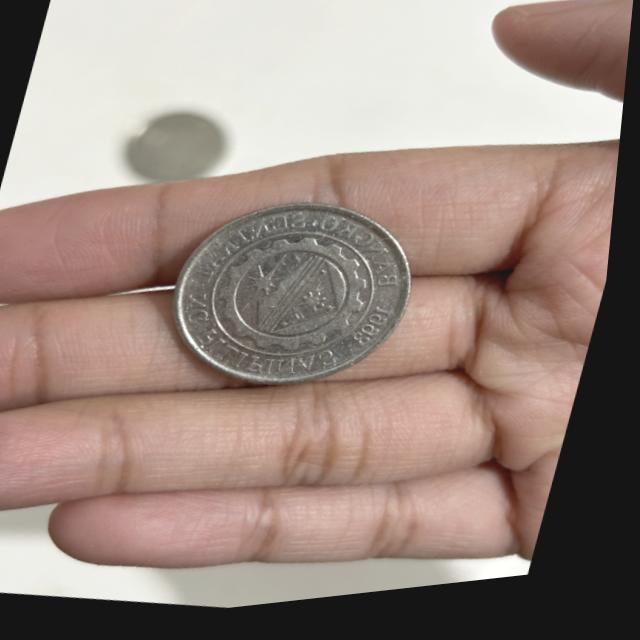1_Old_Back: (203, 212, 407, 388)
